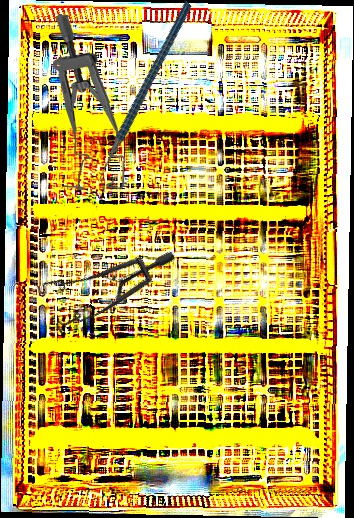Chopper: (47, 0, 245, 194)
Speculum: (22, 198, 178, 362), (48, 14, 131, 192)
